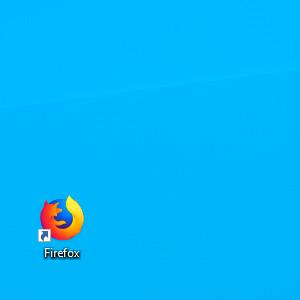firefox: (38, 194, 84, 243)
